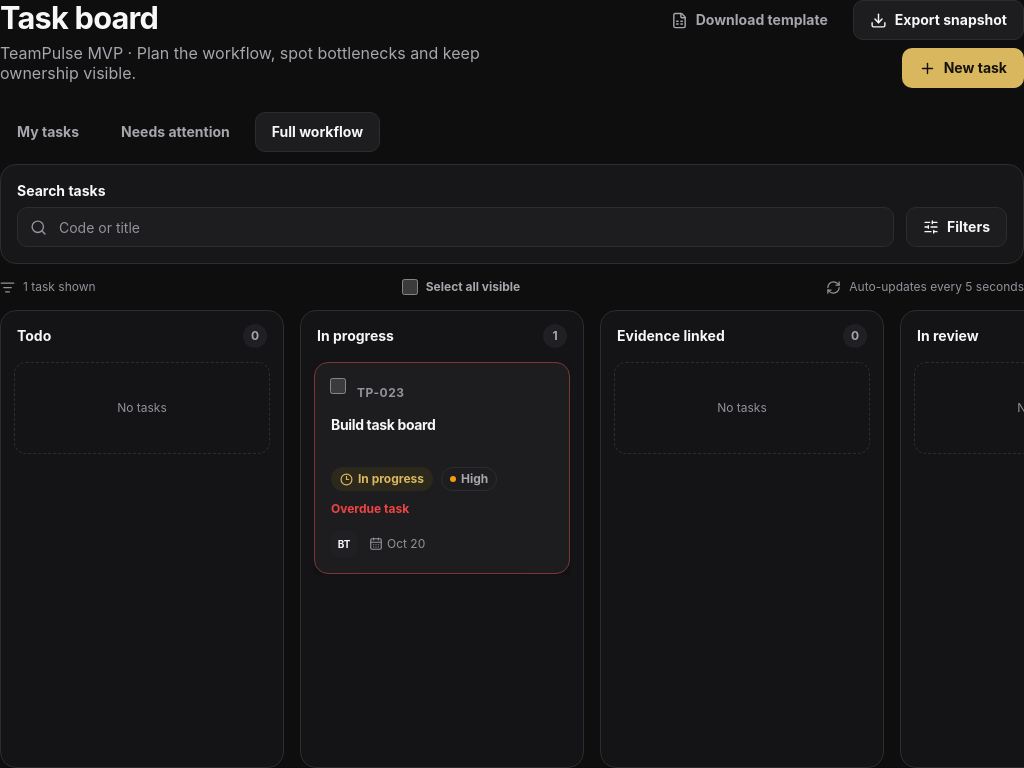
task board flow › supports guarded task-board keyboard shortcuts
The image size is (1024, 768).
Click the checkbox named "TP-023": click(338, 386) [330, 378, 346, 394]
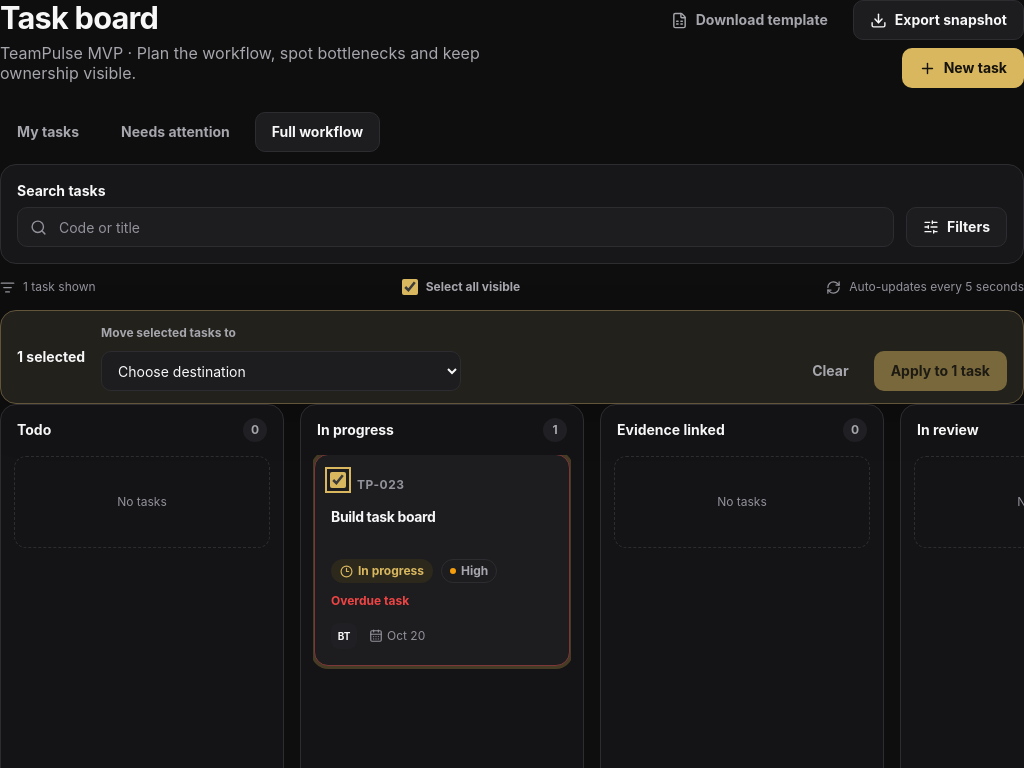
Result: the element named "Bulk task actions" is shown at [0, 310, 1023, 404]
Press Escape
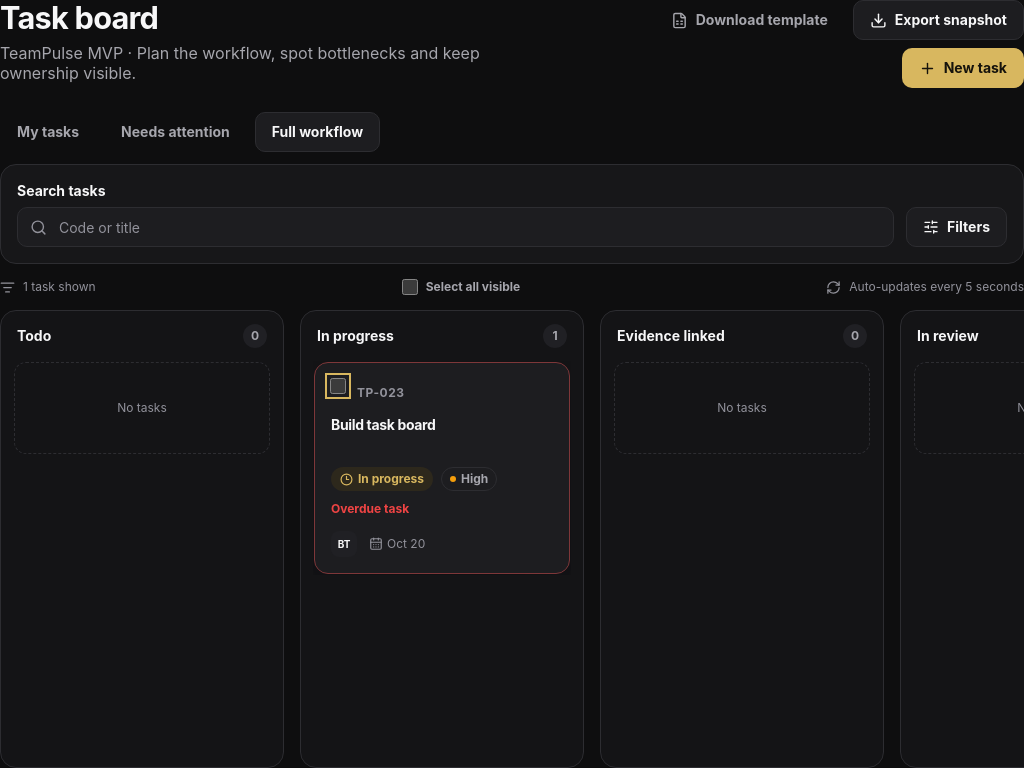
Type keys "/"
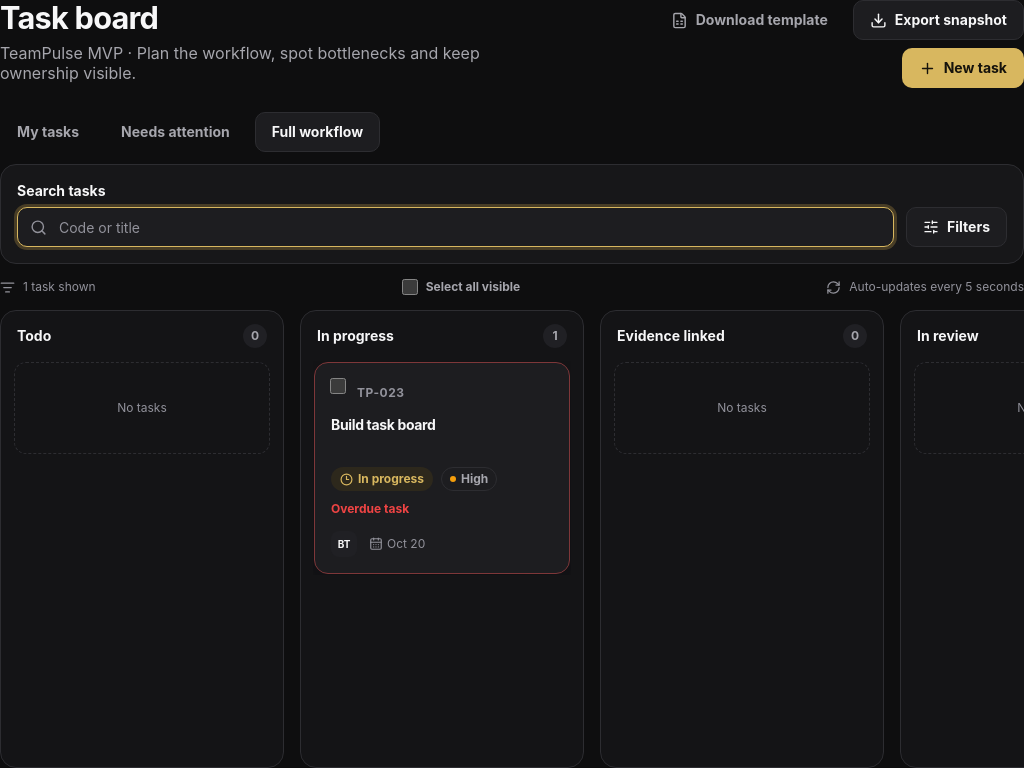
Type keys "n"
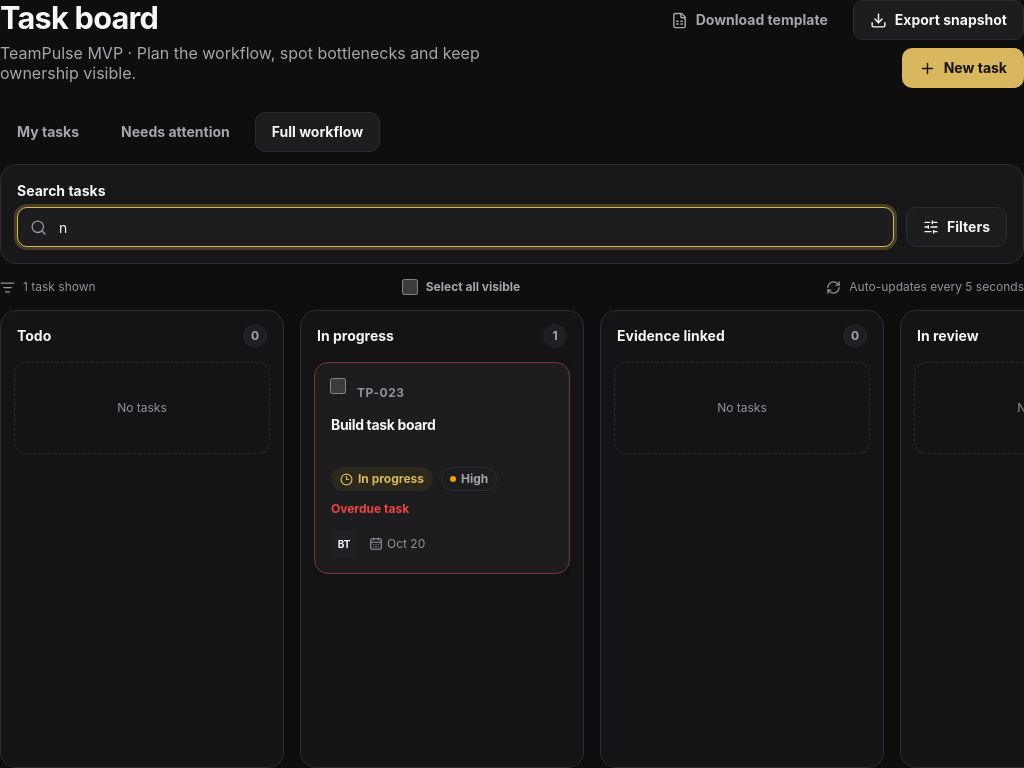
Expected: the dialog "Create task" is not shown
Press Tab
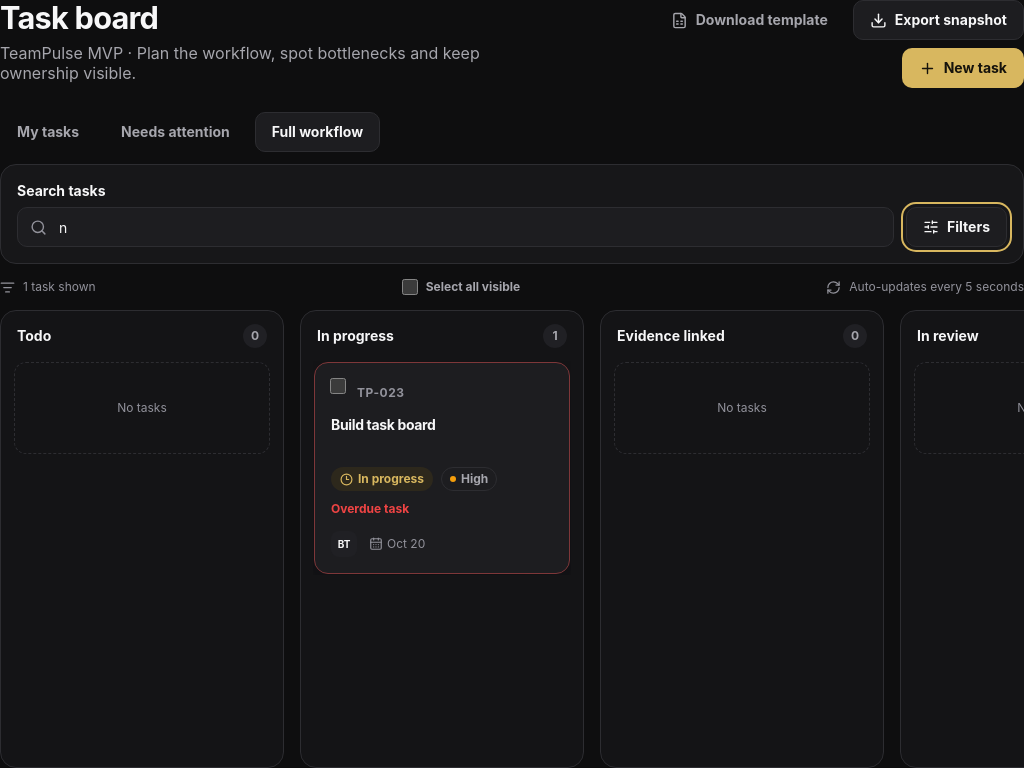
Type keys "n"
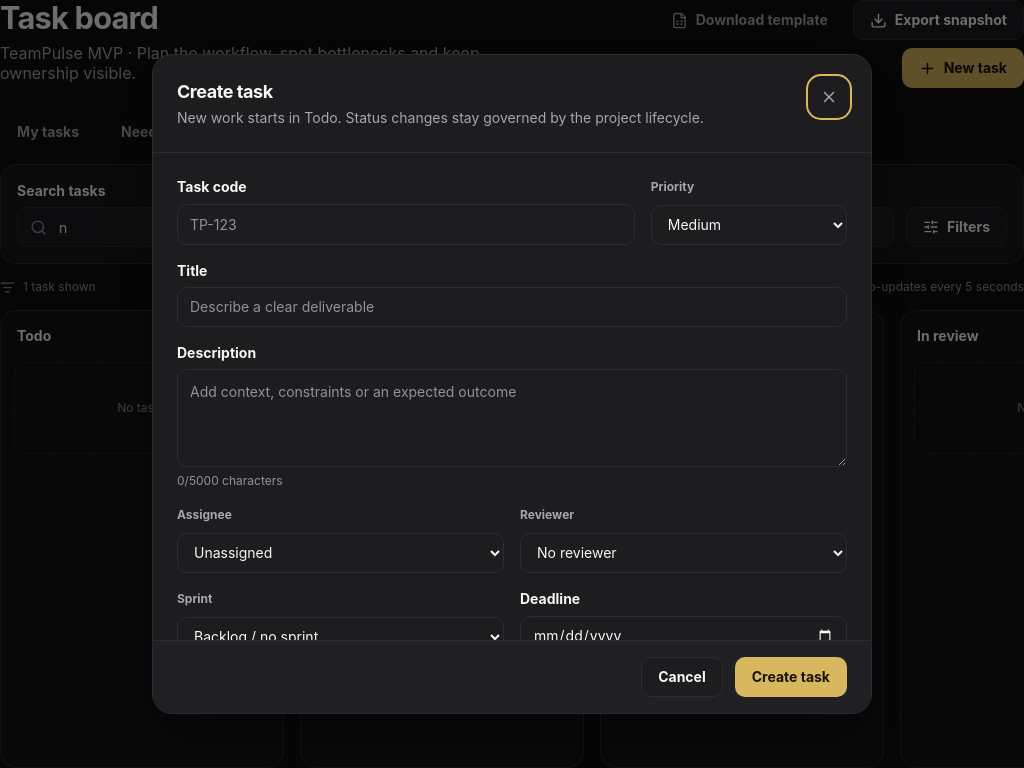
Result: the dialog "Create task" is shown
